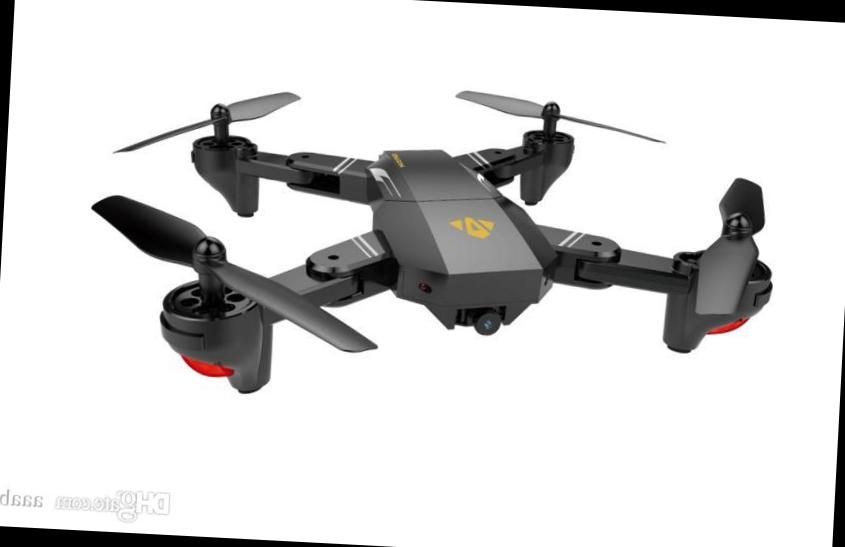drone: (87, 67, 804, 412)
